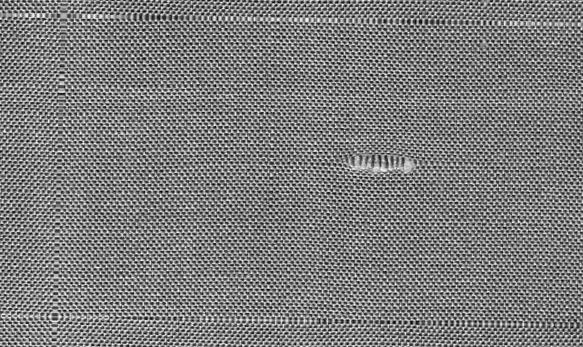slub: (342, 150, 418, 176)
